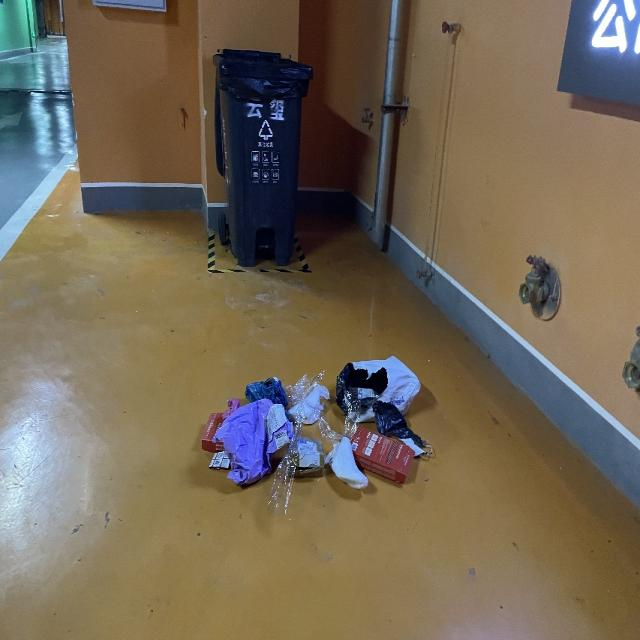garbage: (200, 353, 432, 515)
garbage_bin: (213, 46, 311, 265)
